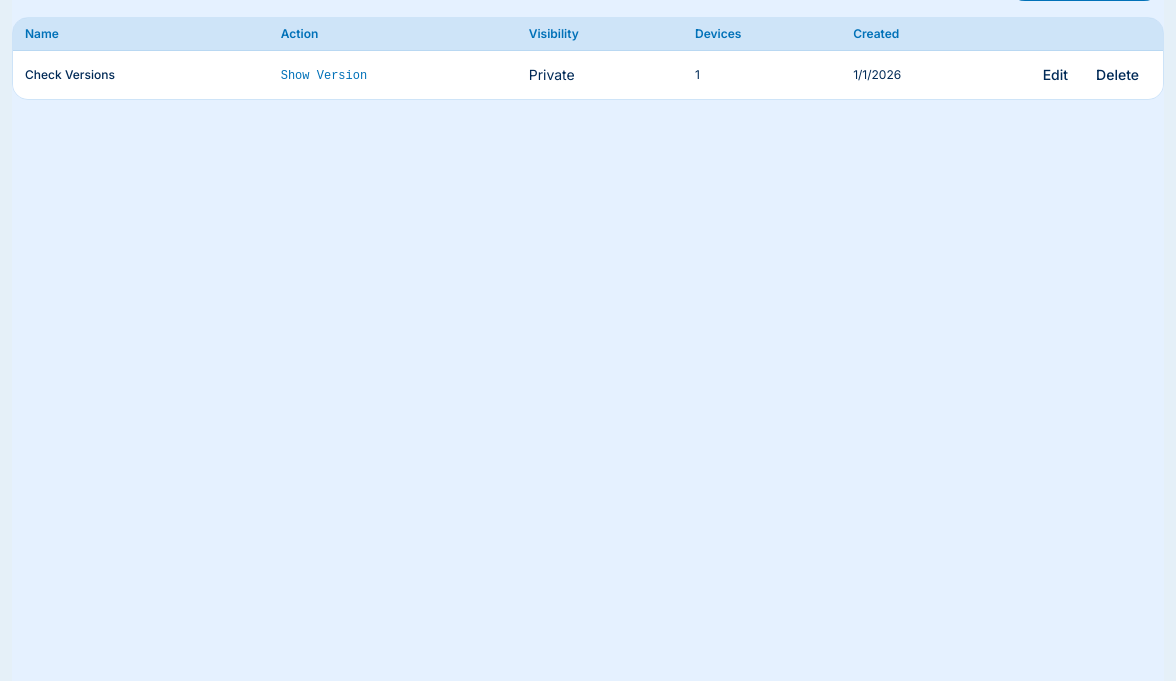
Builder — schedule section (existing automation) › shows the Schedules heading when editing a saved automation
Click the text "Check Versions".
click(70, 74)  # box [25,67,115,82]
(page scrolled)
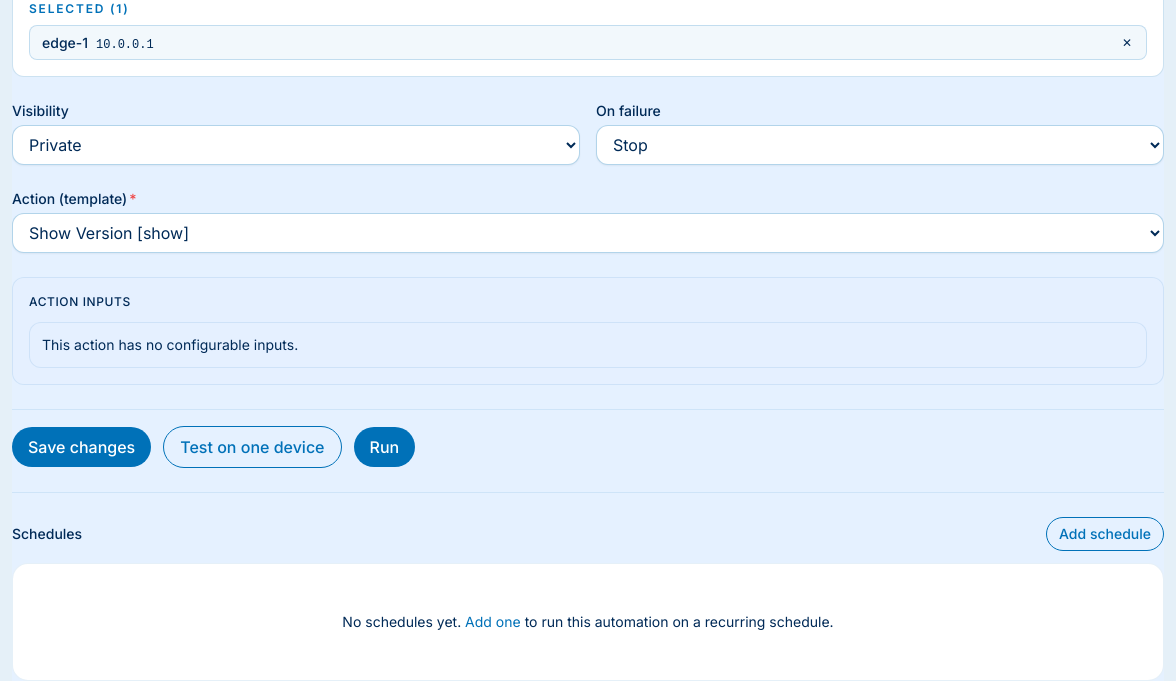
Check: the text "Schedules" is shown, box [12,524,82,544]
